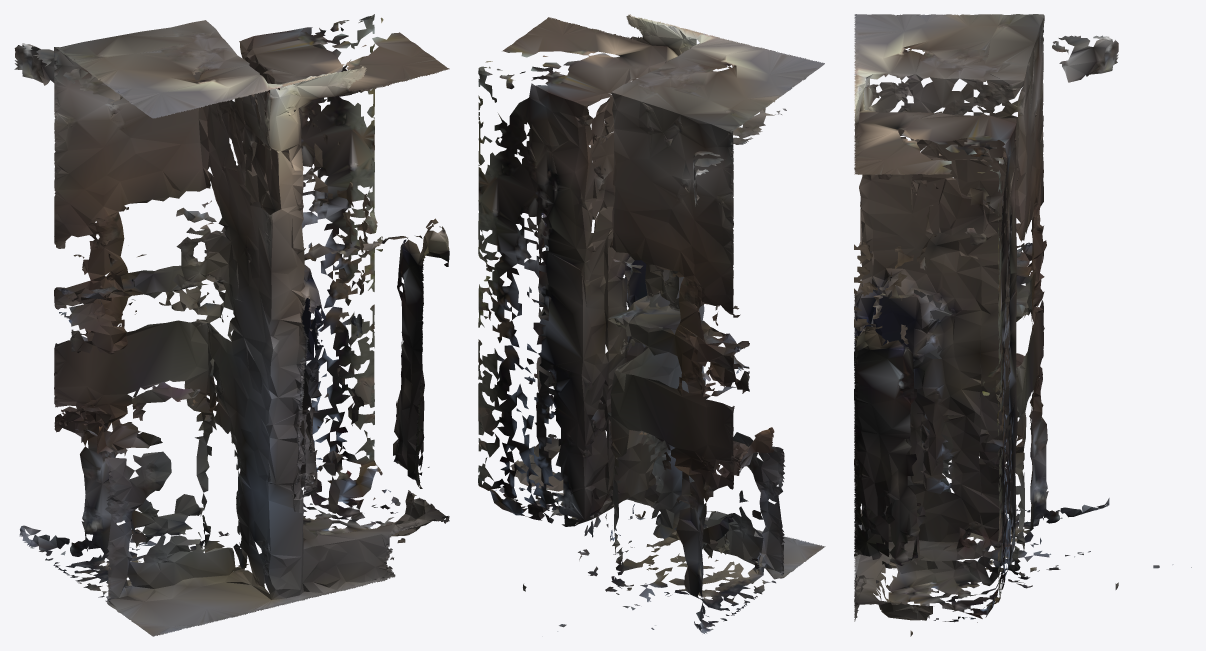
File: coarse.glb
The picture shows the model from 3 angles, left to right: view 1: azimuth 30°, elevation 25°; view 2: azimuth 150°, elevation 25°; view 3: azimuth 270°, elevation 25°; orthographic projection. The views are drawn at different scales.
Bounding box in the file's own units: 1.85 × 3.19 × 1.9.
